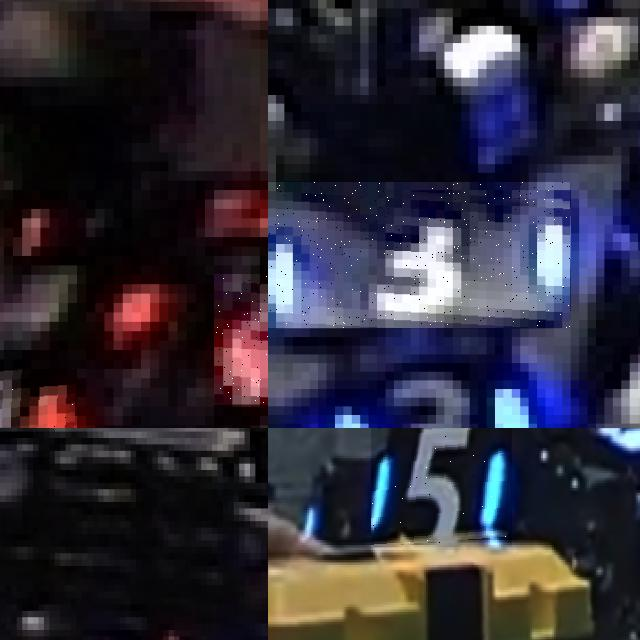B3: (268, 181, 570, 328), (318, 354, 545, 428)
B5: (371, 428, 512, 547)
R3: (214, 274, 268, 406), (0, 368, 76, 428)
